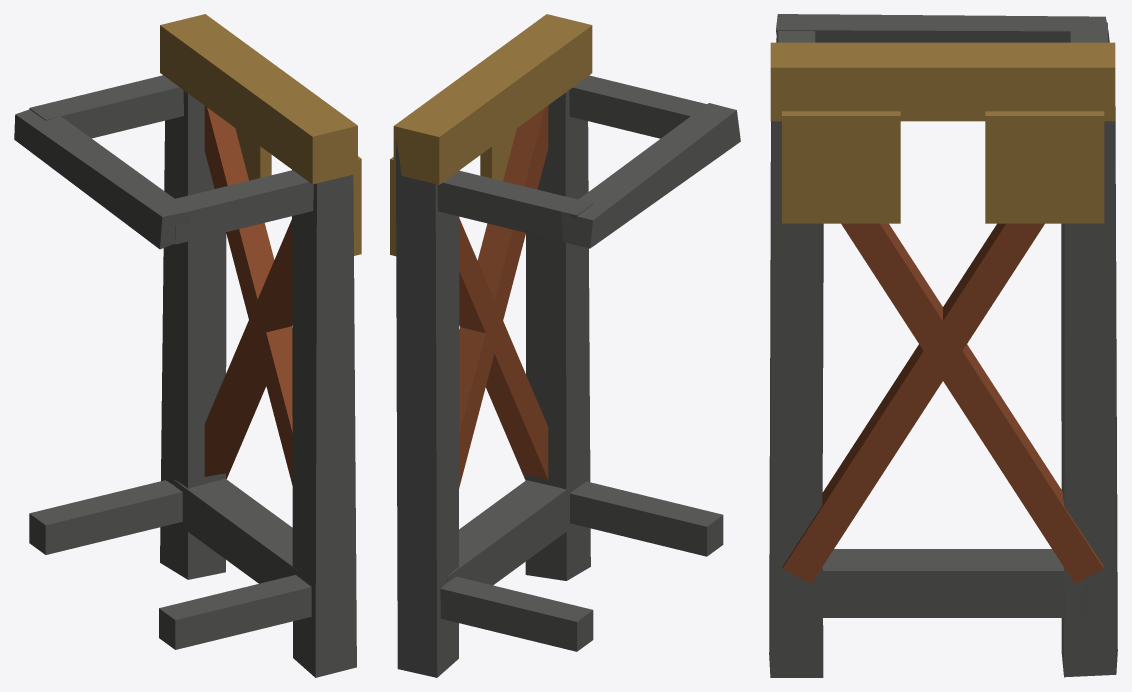
Rendered from arm_reinforced_section.glb.
The picture shows the model from 3 angles, left to right: view 1: azimuth 30°, elevation 25°; view 2: azimuth 150°, elevation 25°; view 3: azimuth 270°, elevation 25°; orthographic projection. The views are drawn at different scales.
Visible parts, largest first — view 1: arm_reinforced_section; view 2: arm_reinforced_section; view 3: arm_reinforced_section.
Part boxes in pixels (<box>): arm_reinforced_section: <box>14,14,361,677</box>; arm_reinforced_section: <box>390,14,740,677</box>; arm_reinforced_section: <box>769,14,1117,677</box>.
Bounding box in the file's own units: 0.3588 × 0.9085 × 0.4695.
